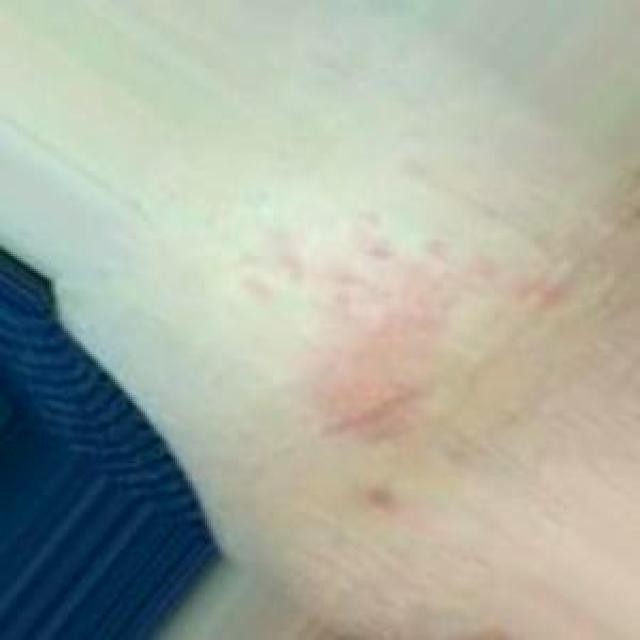Shingles: (220, 209, 560, 455)
